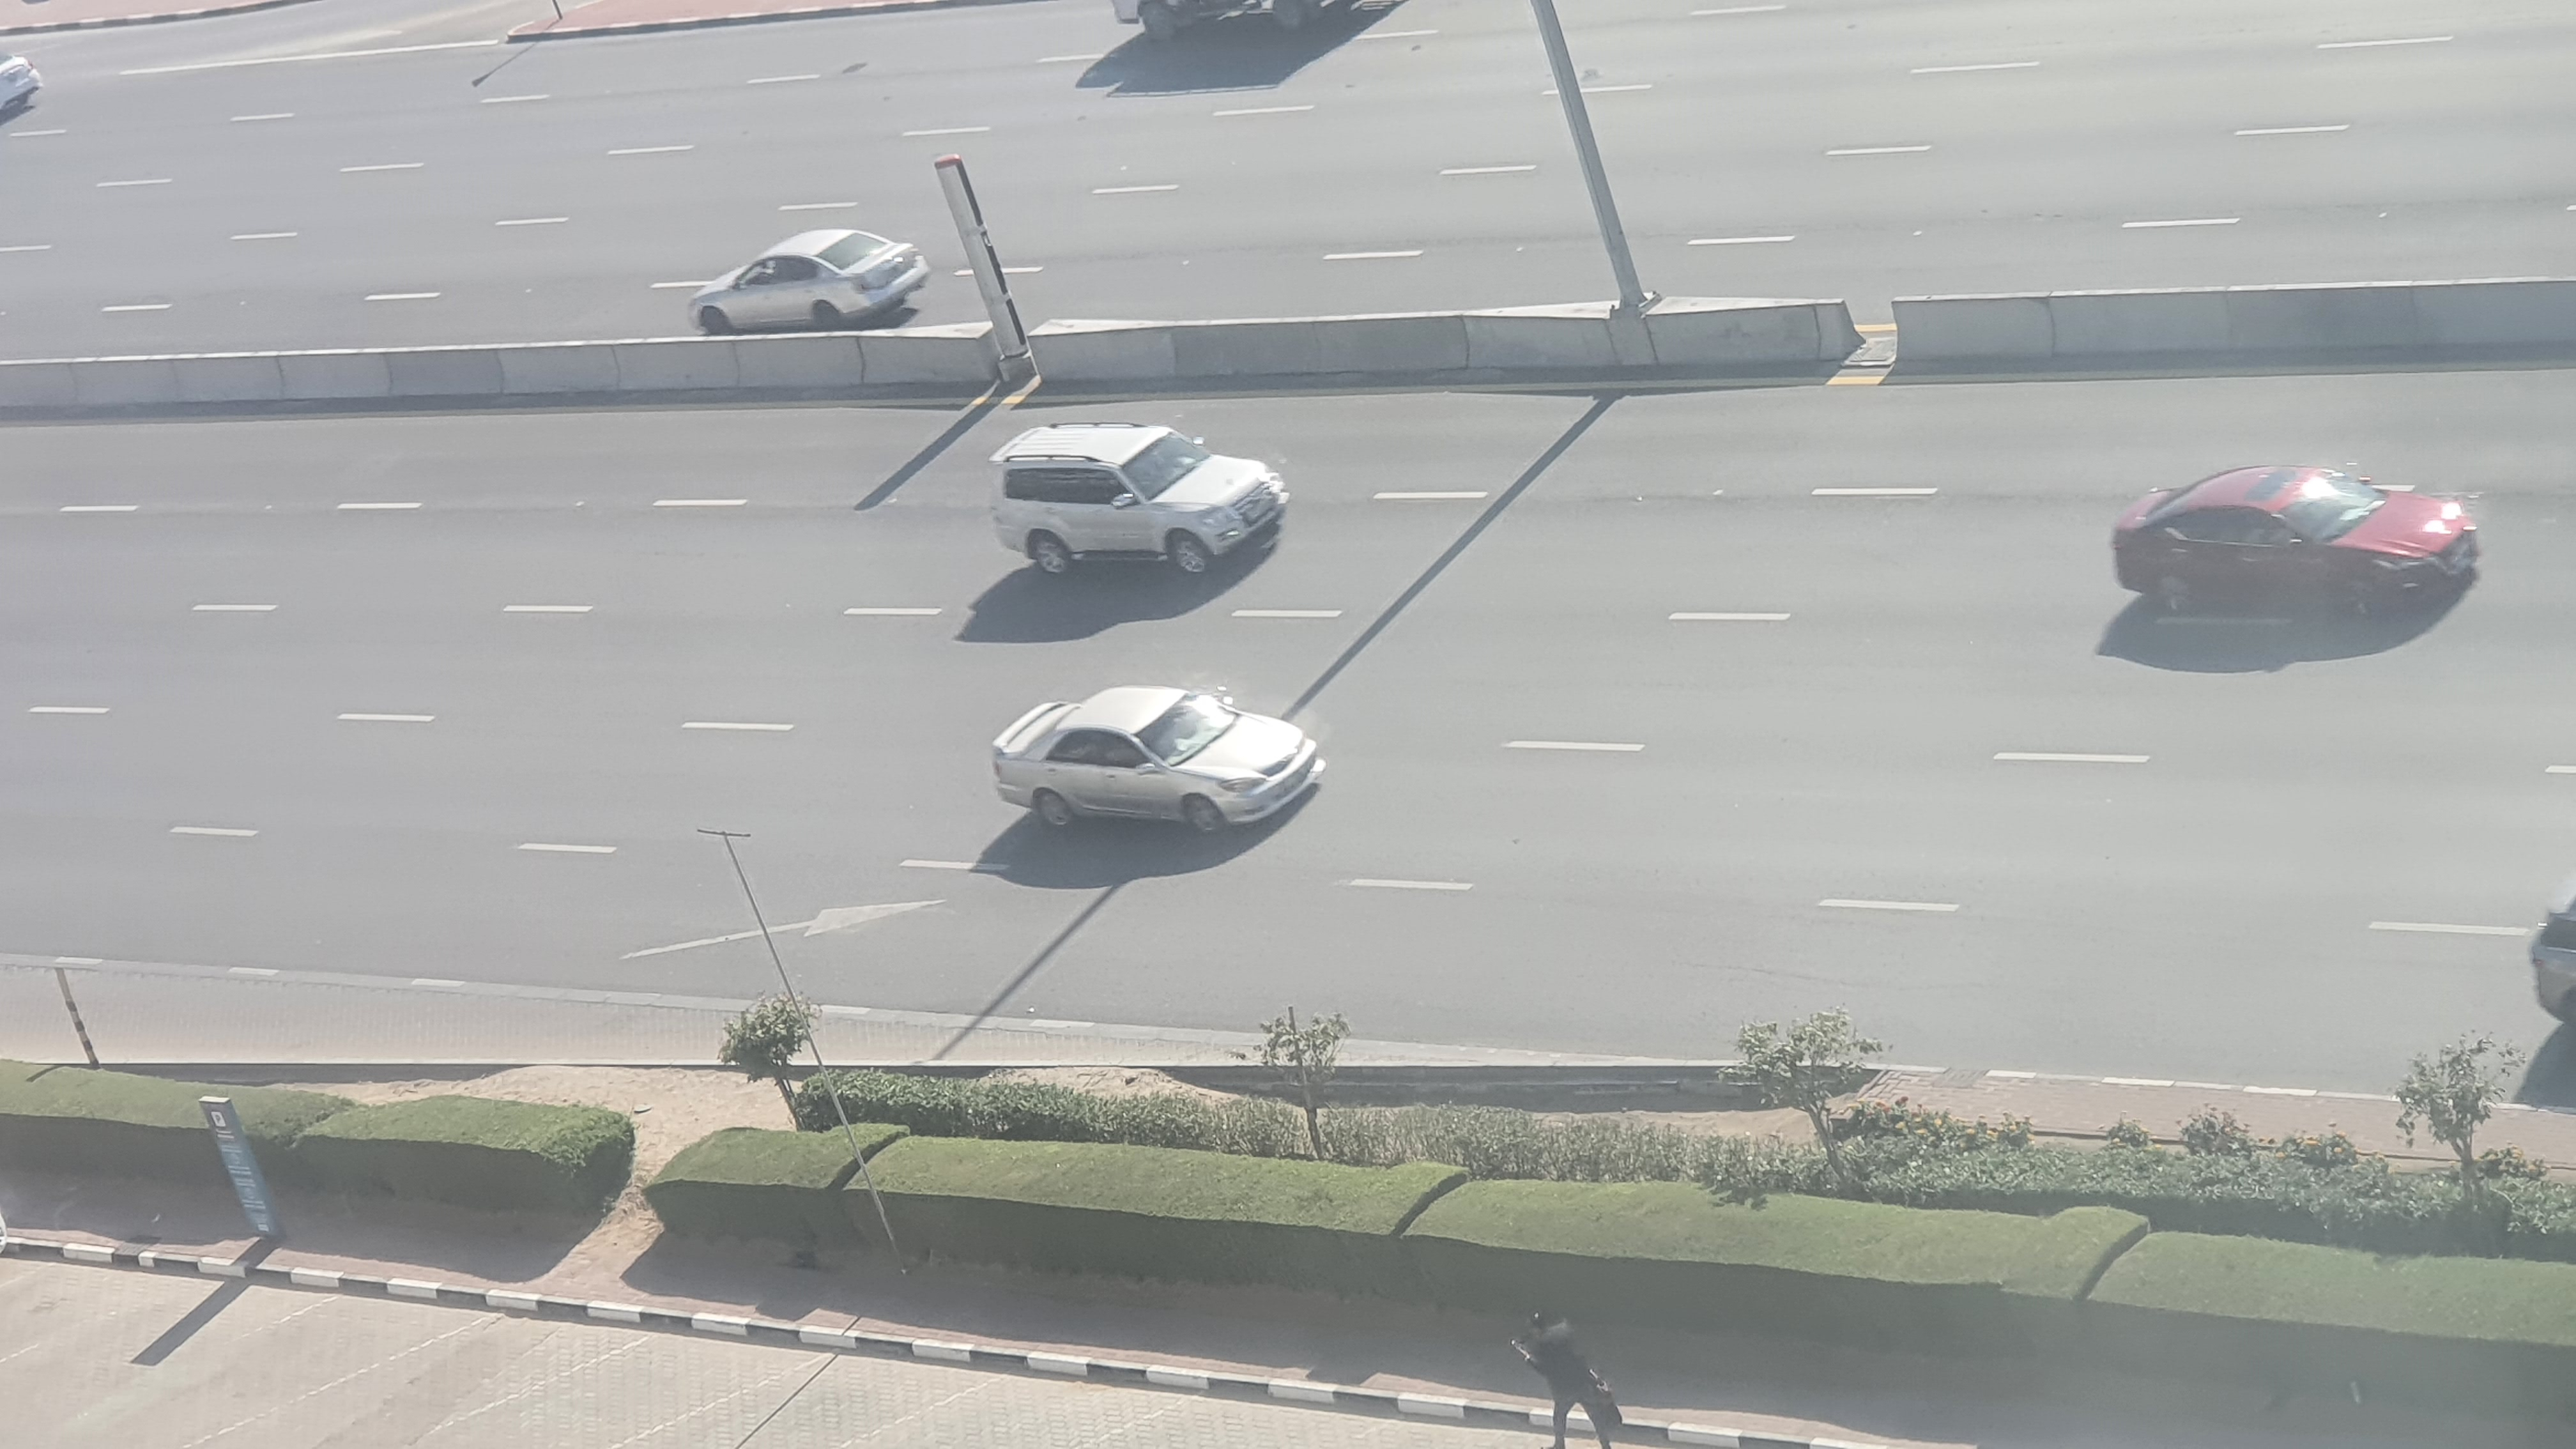NotSunroof: (985, 683, 1332, 839), (989, 423, 1295, 580)
Sunroof: (2109, 467, 2479, 621)
